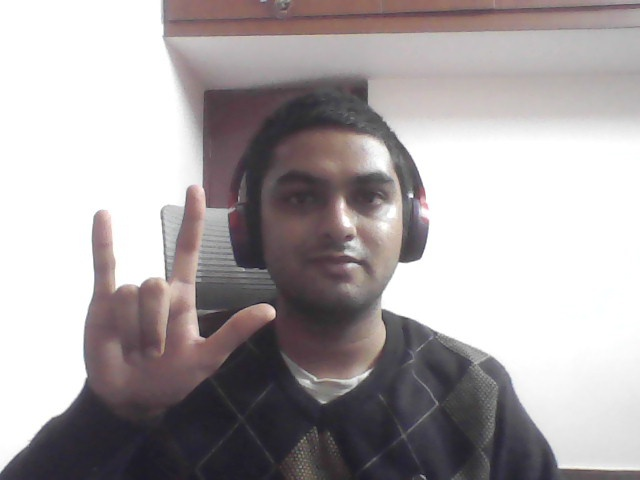I Love You: (50, 185, 279, 410)
